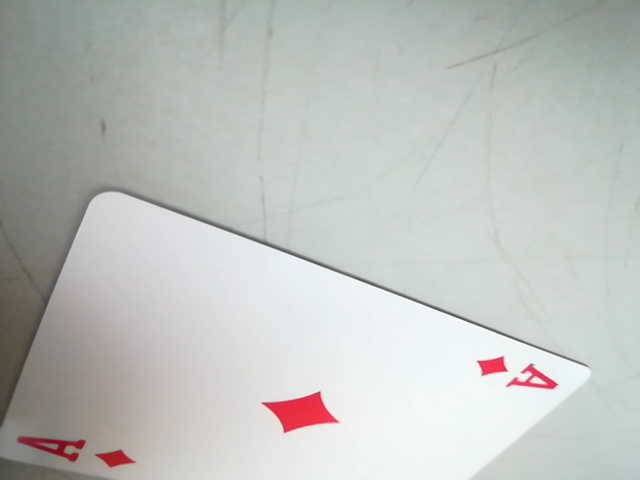fk a: (470, 345, 573, 405), (7, 428, 141, 470)
